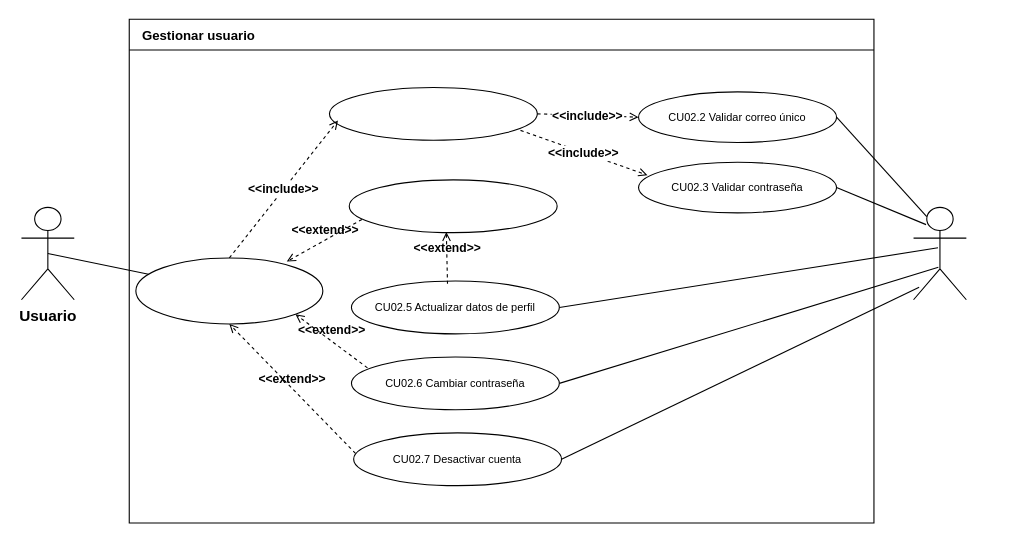
Image size: 1011x542. Some labels were removed from this diagram. Each missing label, with the centre of its shape:
"Base de Datos" goes at pixel 939 253.
"CU02 Gestionar usuario" goes at pixel 229 290.
"CU02.1 Registrar usuario (nombre..., correo, contraseña)" goes at pixel 432 113.
"CU02.4 Consultar datos de perfil" goes at pixel 452 206.
